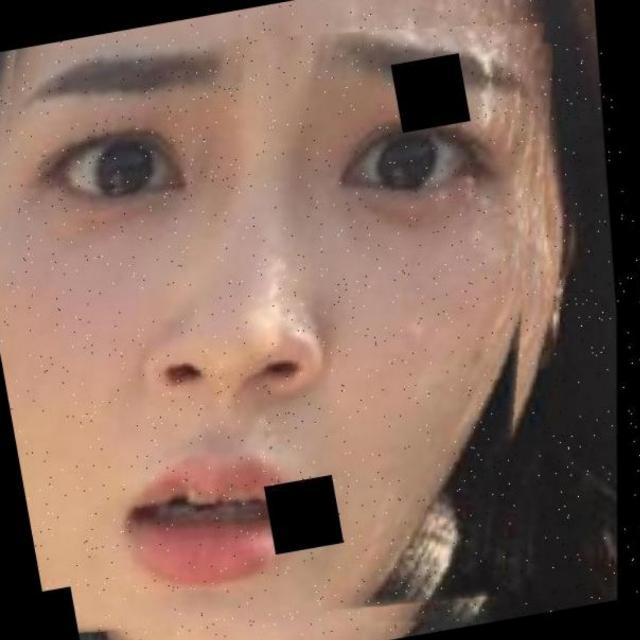Surprised: (15, 48, 513, 640)
